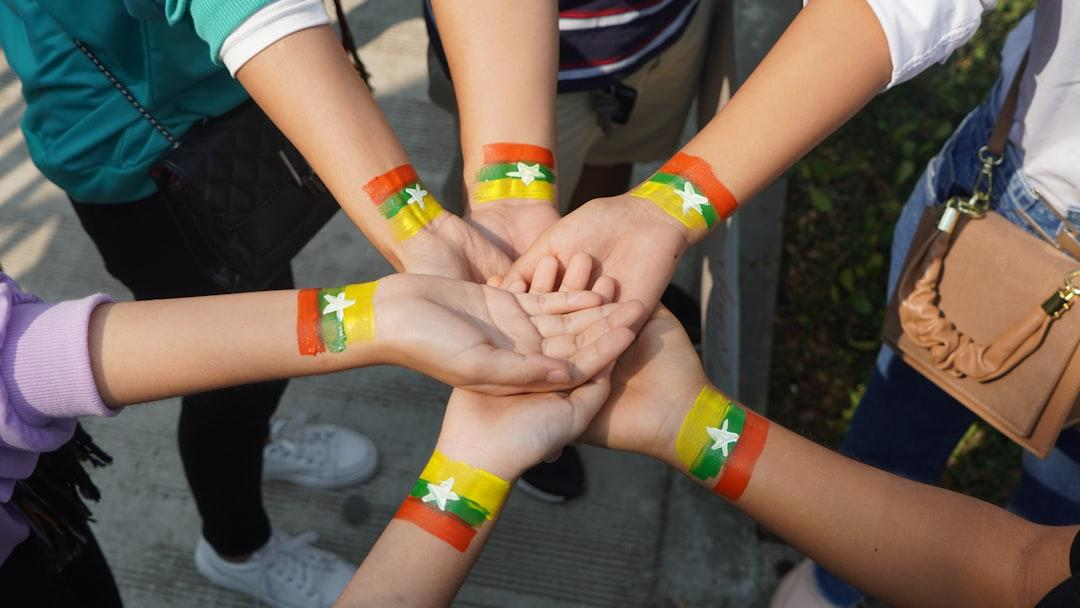Myanmar: (670, 374, 772, 498), (398, 452, 510, 549), (636, 151, 737, 241), (365, 167, 449, 238), (472, 146, 559, 214), (299, 282, 376, 356)
